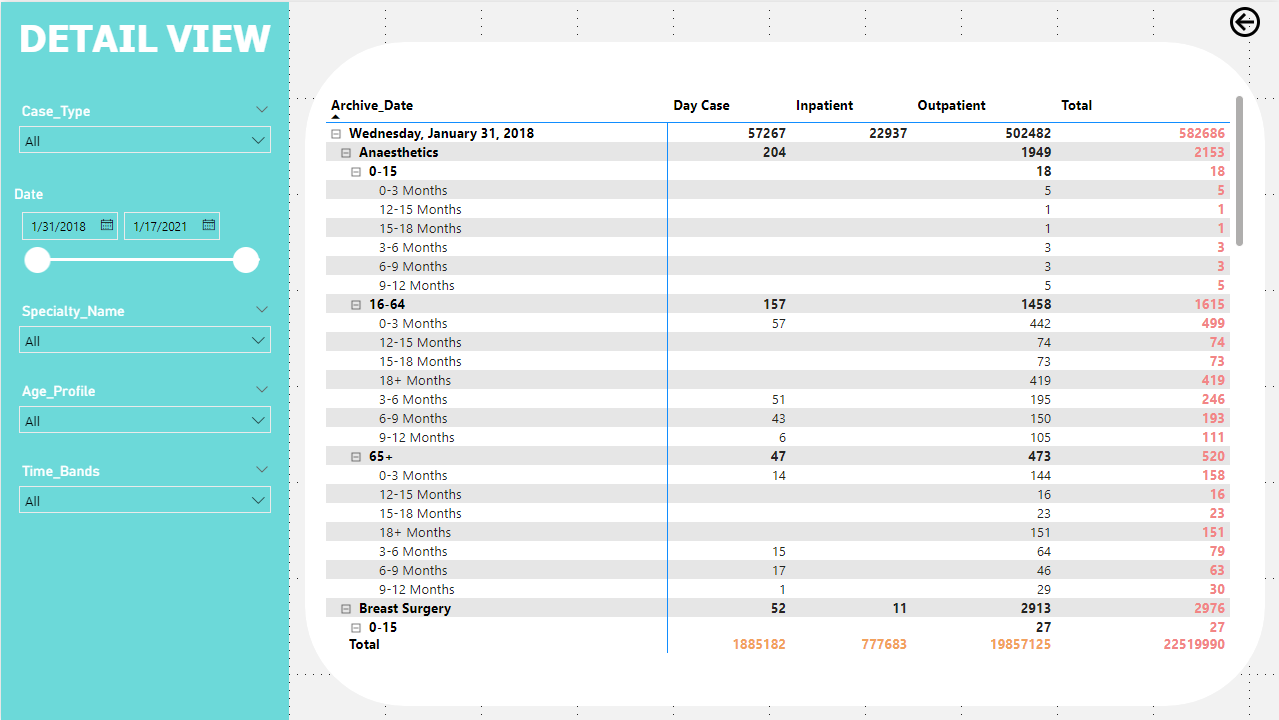

What the dashboard file says about the page in this screenshot:
{"tool":"powerbi","page":{"name":"Details","canvas":[1280,720],"ordinal":1},"visuals":[{"type":"shape","box":[304,40,960,664],"z":0},{"type":"shape","box":[0,0,288,720],"z":1000},{"type":"slicer","title":"Date","fields":{"Values":["All_Data.Archive_Date"]},"box":[8,184,272,96],"z":2000},{"type":"slicer","fields":{"Values":["All_Data.Case_Type"]},"box":[8,96,272,64],"z":3000},{"type":"slicer","fields":{"Values":["All_Data.Specialty_Name"]},"box":[8,296,272,72],"z":4000},{"type":"textbox","box":[8,8,272,56],"z":5000},{"type":"slicer","fields":{"Values":["All_Data.Age_Profile"]},"box":[8,376,272,72],"z":6000},{"type":"slicer","fields":{"Values":["All_Data.Time_Bands"]},"box":[8,456,272,72],"z":7000},{"type":"pivotTable","fields":{"Rows":["All_Data.Archive_Date","All_Data.Specialty_Name","All_Data.Age_Profile","All_Data.Time_Bands"],"Columns":["All_Data.Case_Type"],"Values":["Sum(All_Data.Total)"]},"box":[320,88,928,568],"z":8000},{"type":"actionButton","box":[1224,0,48,40],"z":9000}]}

Visuals, with their boxes in screenshot pixels (x1, y1, x2, y2), scaled from the page's 1280x720 canvas onto the 1279x720 screenshot:
shape: 304,40,1263,704
shape: 0,0,288,719
"Date" slicer: 8,184,280,280
slicer - All_Data.Case_Type: 8,96,280,160
slicer - All_Data.Specialty_Name: 8,296,280,368
textbox: 8,8,280,64
slicer - All_Data.Age_Profile: 8,376,280,448
slicer - All_Data.Time_Bands: 8,456,280,528
pivotTable - All_Data.Archive_Date x All_Data.Specialty_Name: 320,88,1247,656
actionButton: 1223,0,1271,40
